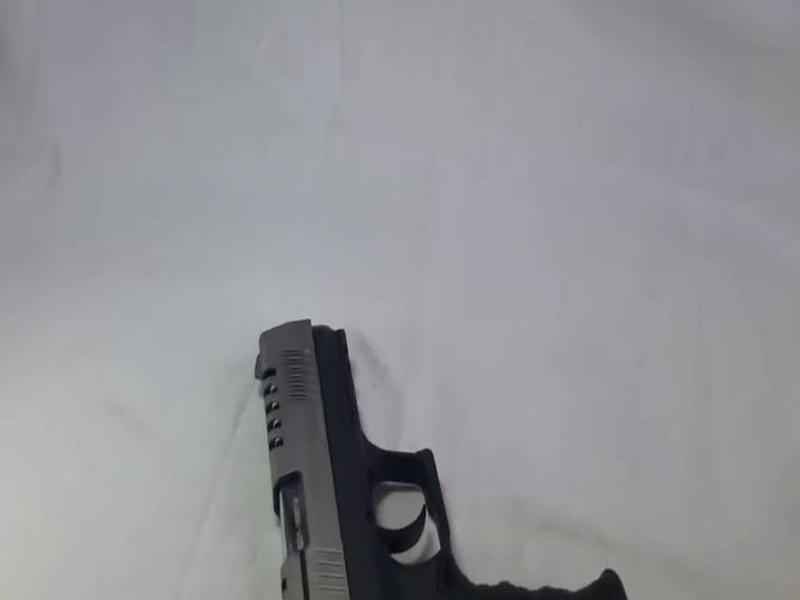Pistola: (253, 284, 570, 600)
